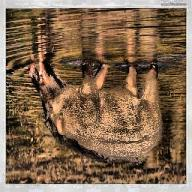boar: (28, 61, 163, 168)
